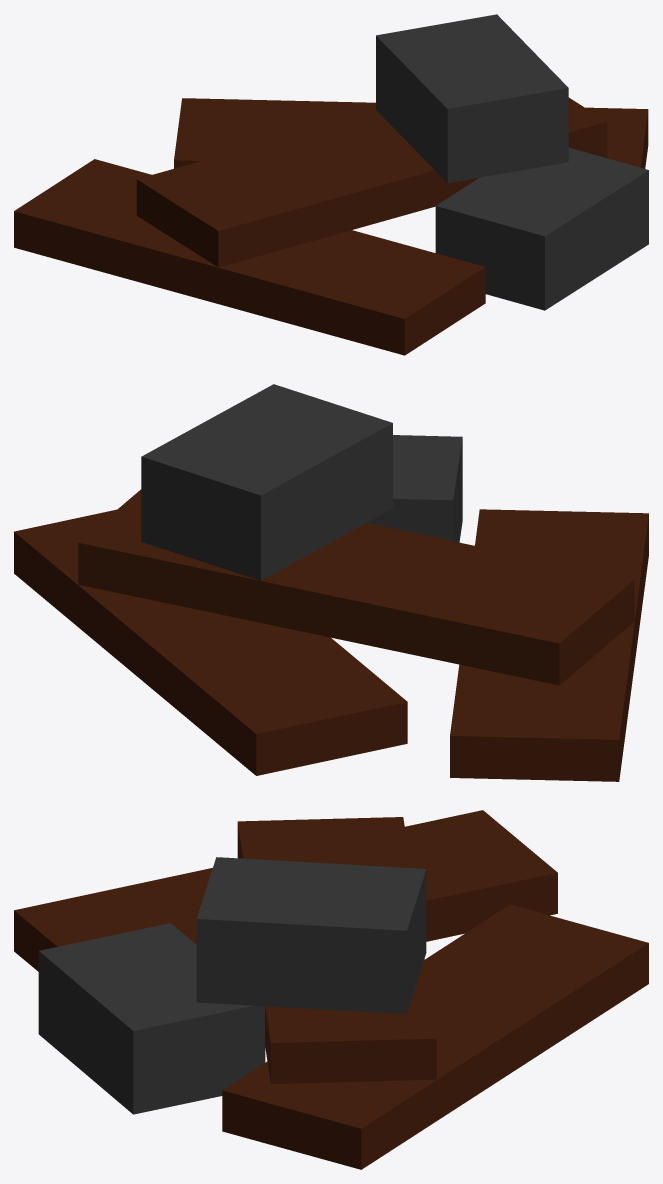
Rendered from site.obj.
The picture shows the model from 3 angles, top to bottom: view 1: azimuth 30°, elevation 25°; view 2: azimuth 150°, elevation 25°; view 3: azimuth 270°, elevation 25°; orthographic projection. The views are drawn at different scales.
Parts seen in each view (by area): view 1: debrisWood, debris; view 2: debrisWood, debris; view 3: debrisWood, debris.
Part boxes in pixels (x1,y1,x2,y2): debrisWood: (14,97,648,355); debris: (376,14,648,310); debrisWood: (14,489,648,781); debris: (141,384,462,580); debrisWood: (14,810,648,1169); debris: (38,857,426,1114).
Size of the model in its own units: 1.34 by 0.3269 by 1.13.
